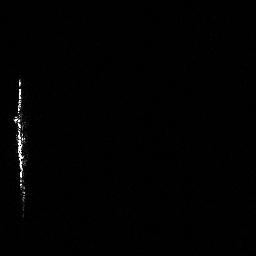ship: (9, 75, 34, 217)
